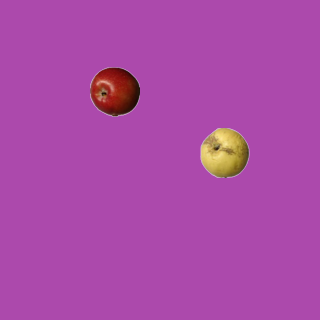Apple Braeburn: (89, 66, 139, 116)
Apple Golden 1: (199, 127, 249, 177)
